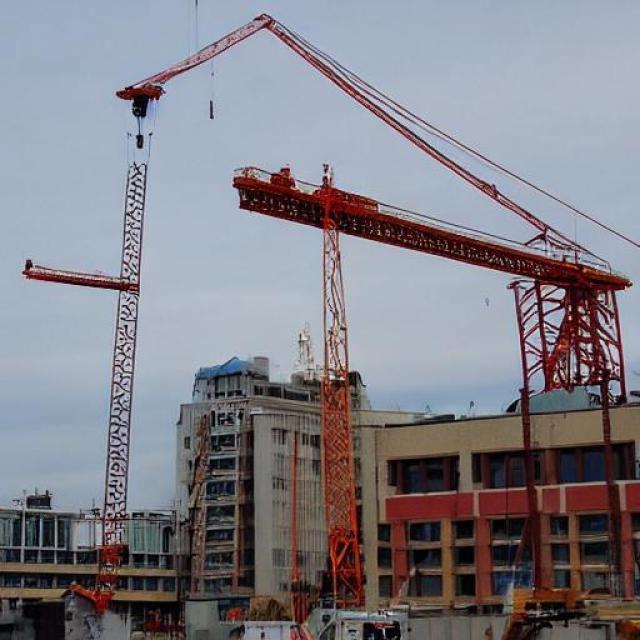crane: (234, 0, 388, 610), (388, 0, 457, 592), (12, 199, 148, 412), (144, 358, 245, 564)
